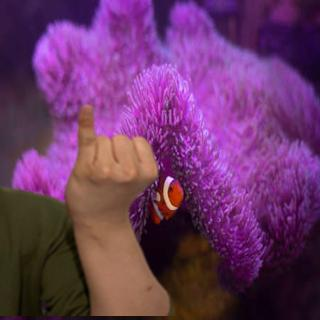FINE: (61, 102, 161, 228)
